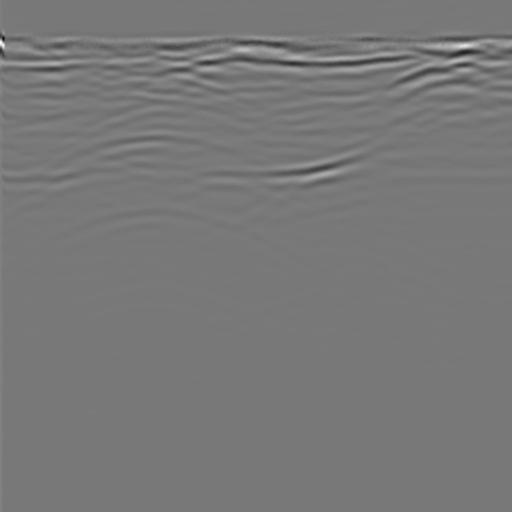hyperbola: (42, 115, 276, 261)
